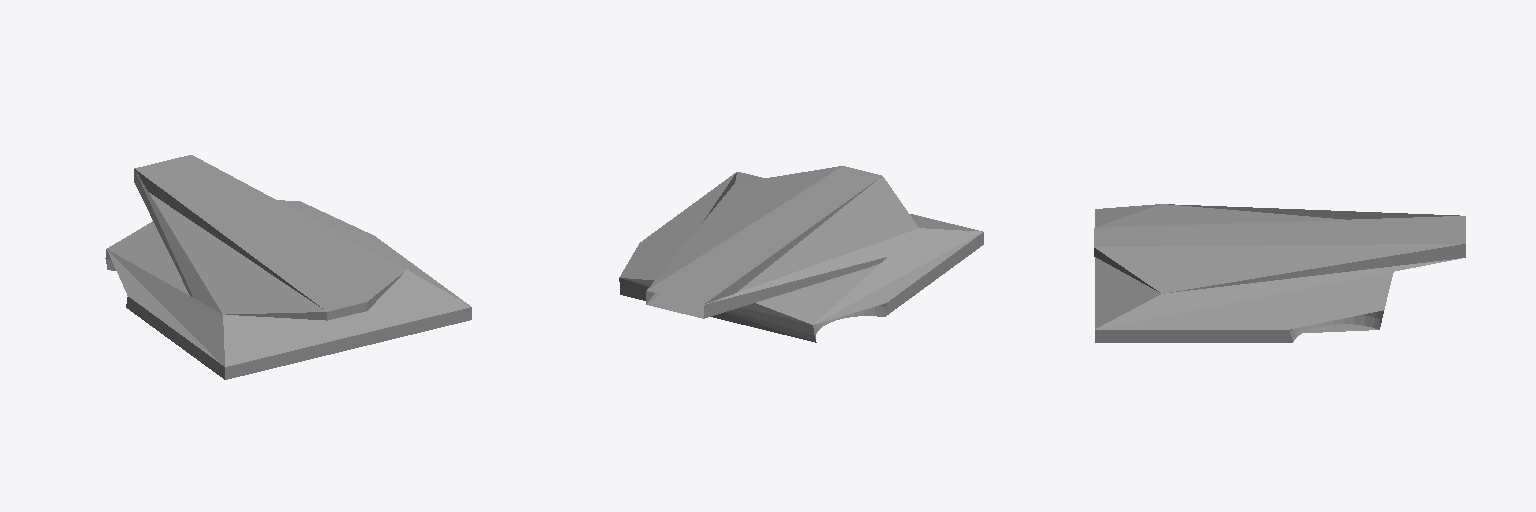
The model's file is Turret5.obj.
3 renders of one model, left to right at view 1: azimuth 30°, elevation 25°; view 2: azimuth 150°, elevation 25°; view 3: azimuth 270°, elevation 25°, orthographic.
Parts seen in each view (by area): view 1: Plane; view 2: Plane; view 3: Plane.
Part boxes in pixels (x1,y1,x2,y2): Plane: (105, 155, 471, 379); Plane: (619, 166, 983, 342); Plane: (1094, 204, 1465, 342).
Bounding box in the file's own units: 1.5 × 0.3054 × 1.96.